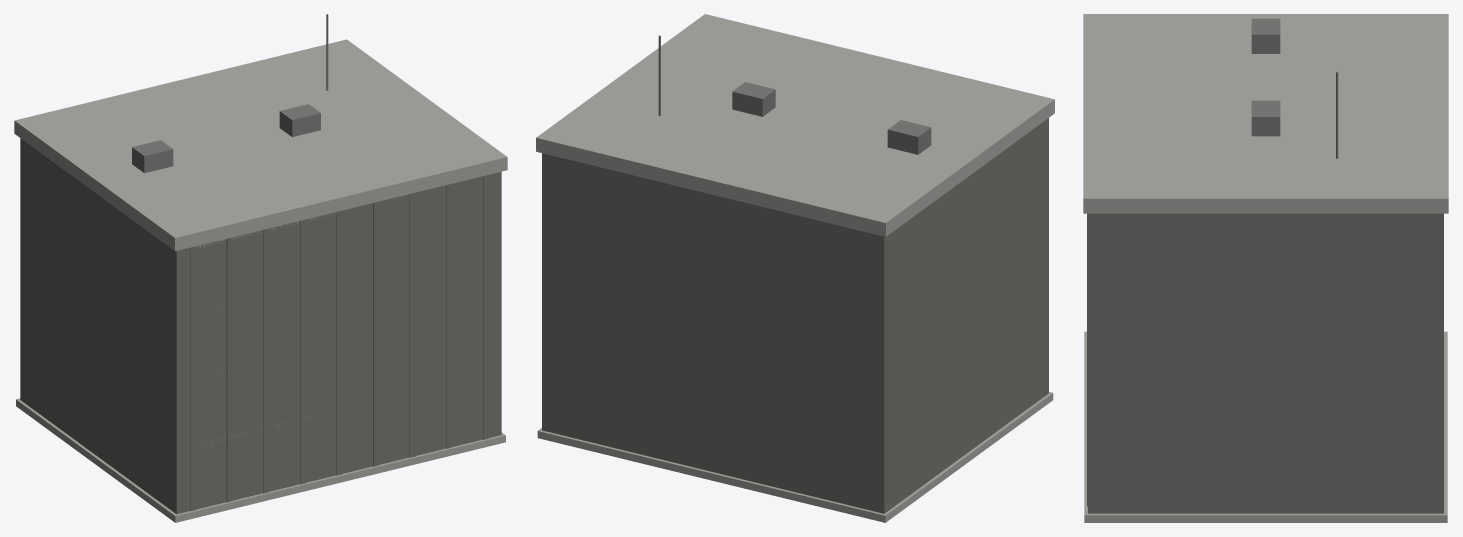
Rendered from b_hospital.glb.
The picture shows the model from 3 angles, left to right: view 1: azimuth 30°, elevation 25°; view 2: azimuth 150°, elevation 25°; view 3: azimuth 270°, elevation 25°; orthographic projection. The views are drawn at different scales.
Visible parts, largest first — view 1: Building; view 2: Building; view 3: Building.
Boxes of the visible parts, bbox=[...] form: Building: bbox=[14, 14, 507, 522]; Building: bbox=[536, 14, 1054, 522]; Building: bbox=[1083, 14, 1448, 522].
Bounding box in the file's own units: 18.4 × 19.2 × 15.4.
5 materials, 2 textured.
